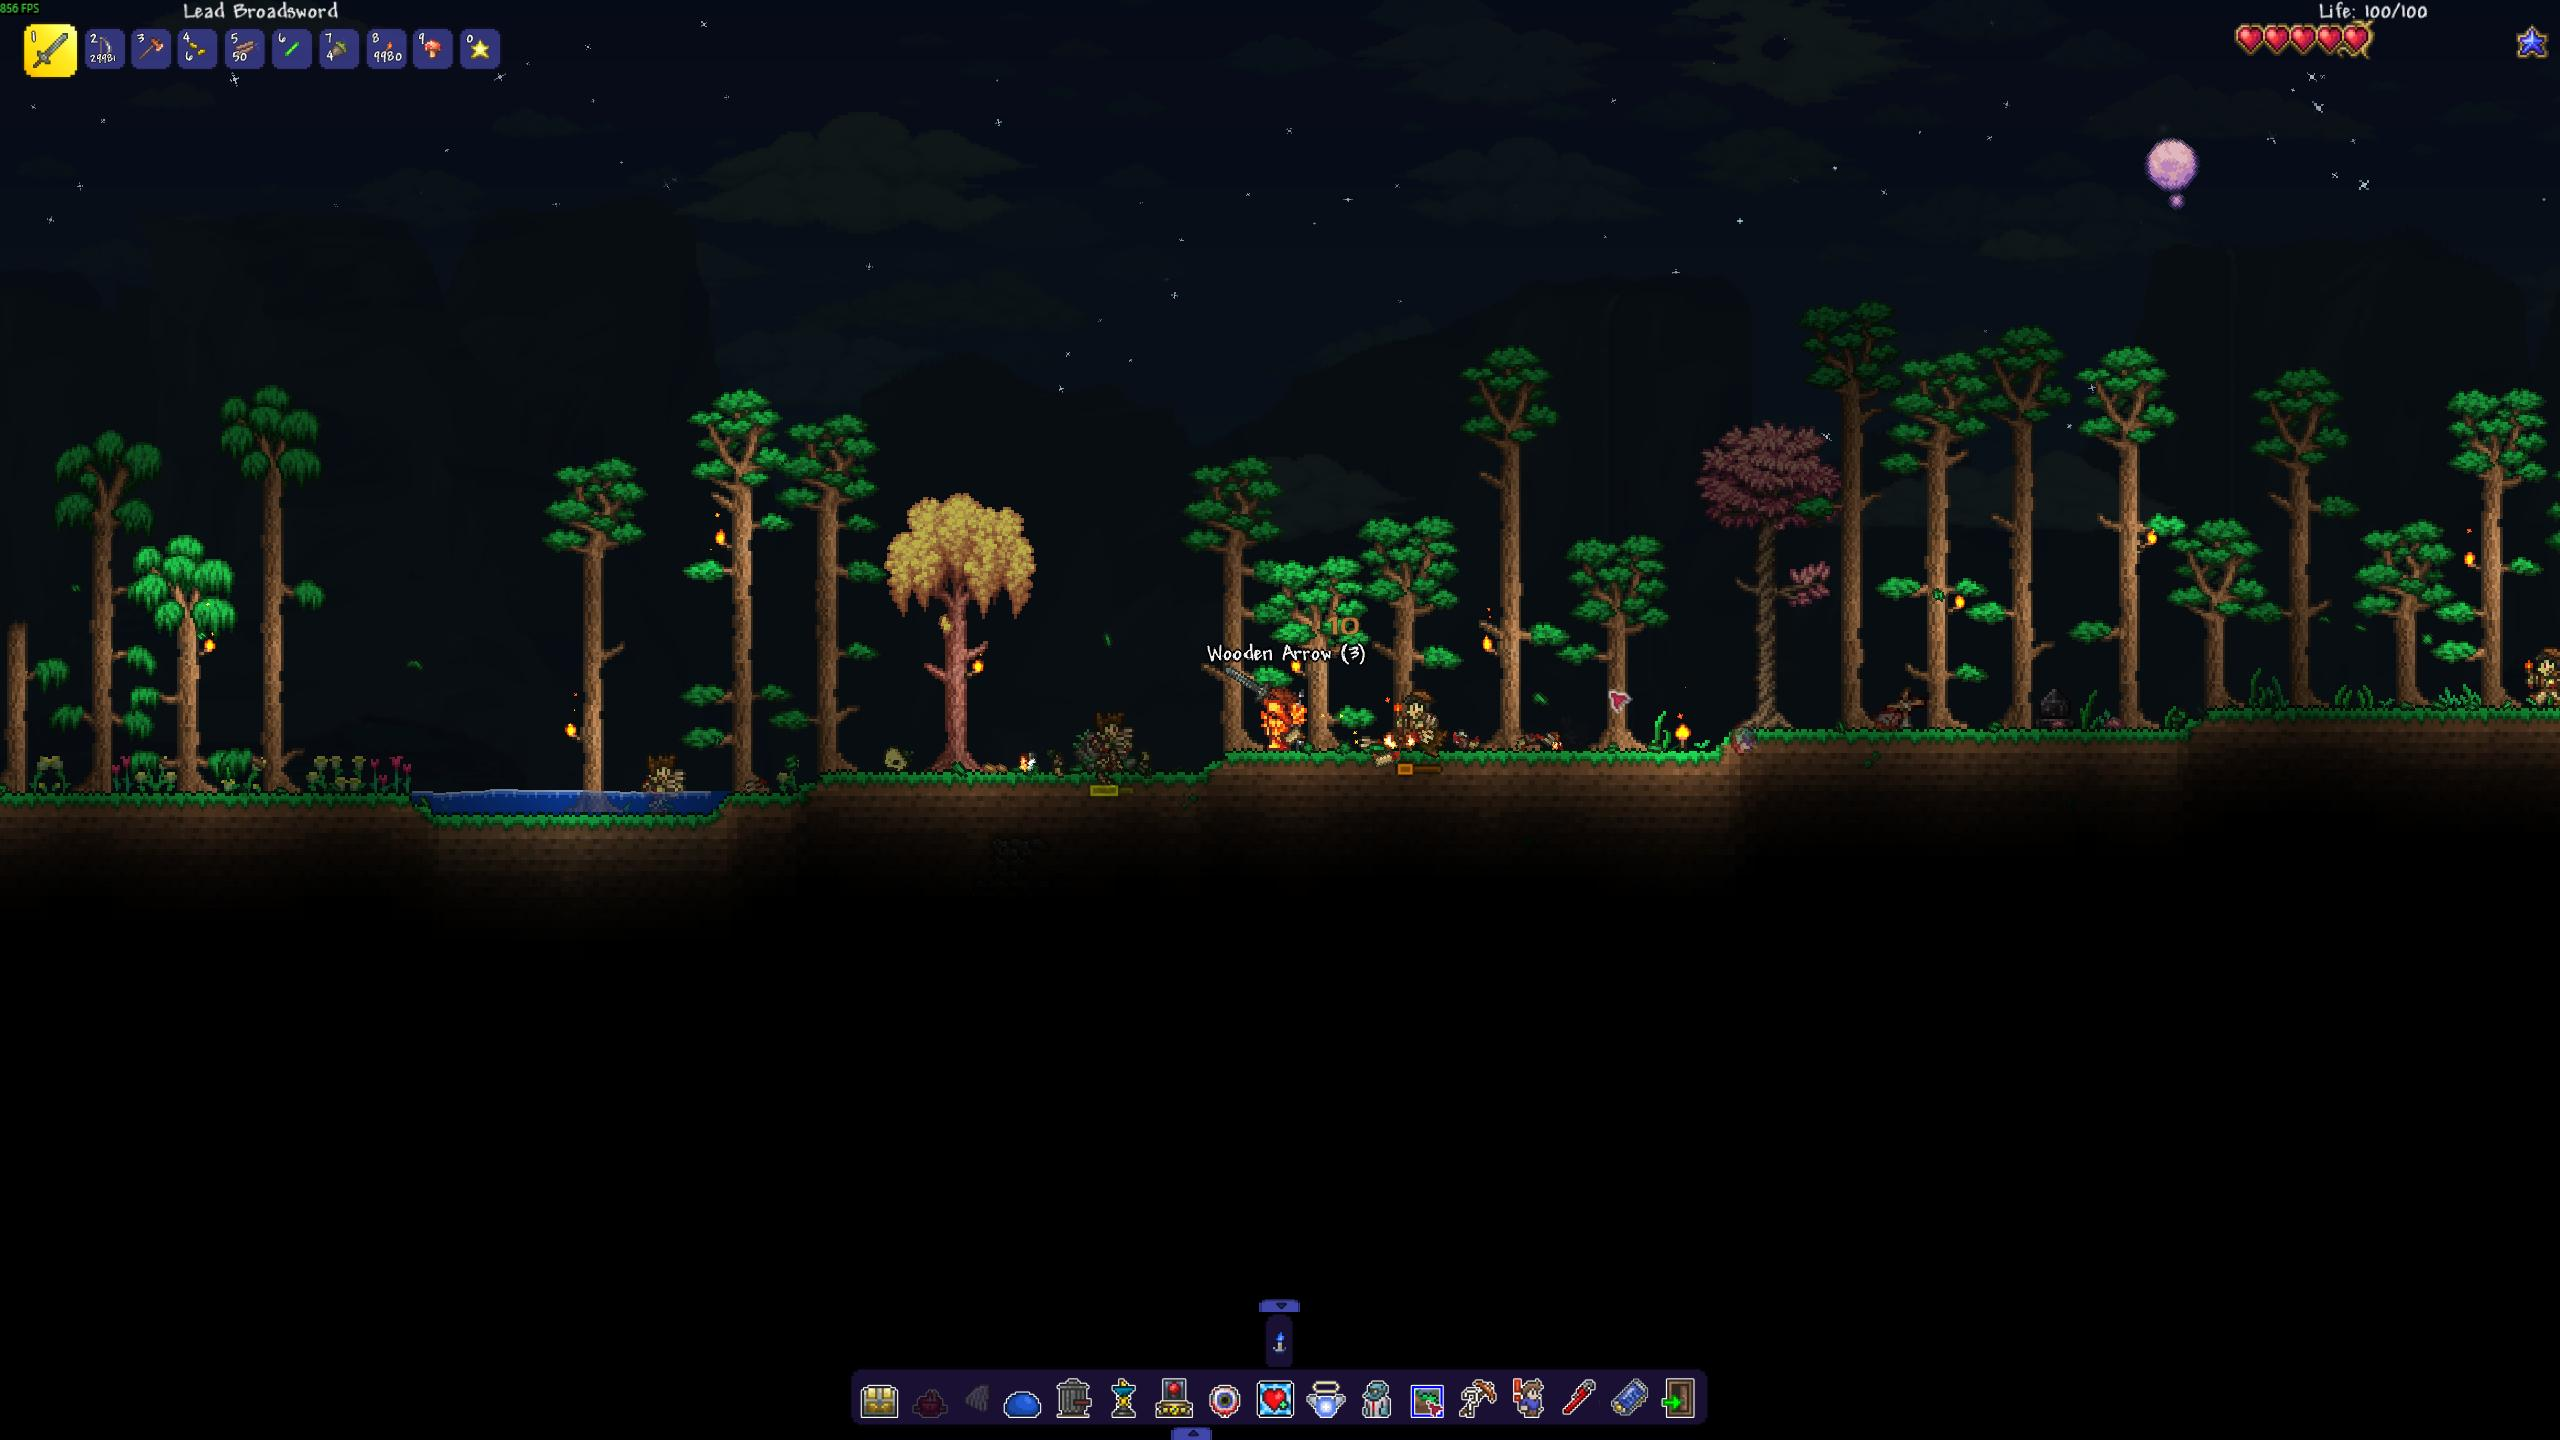Zombie: (1085, 702, 1139, 768), (640, 745, 689, 811), (1391, 687, 1442, 747), (2518, 644, 2560, 707)
